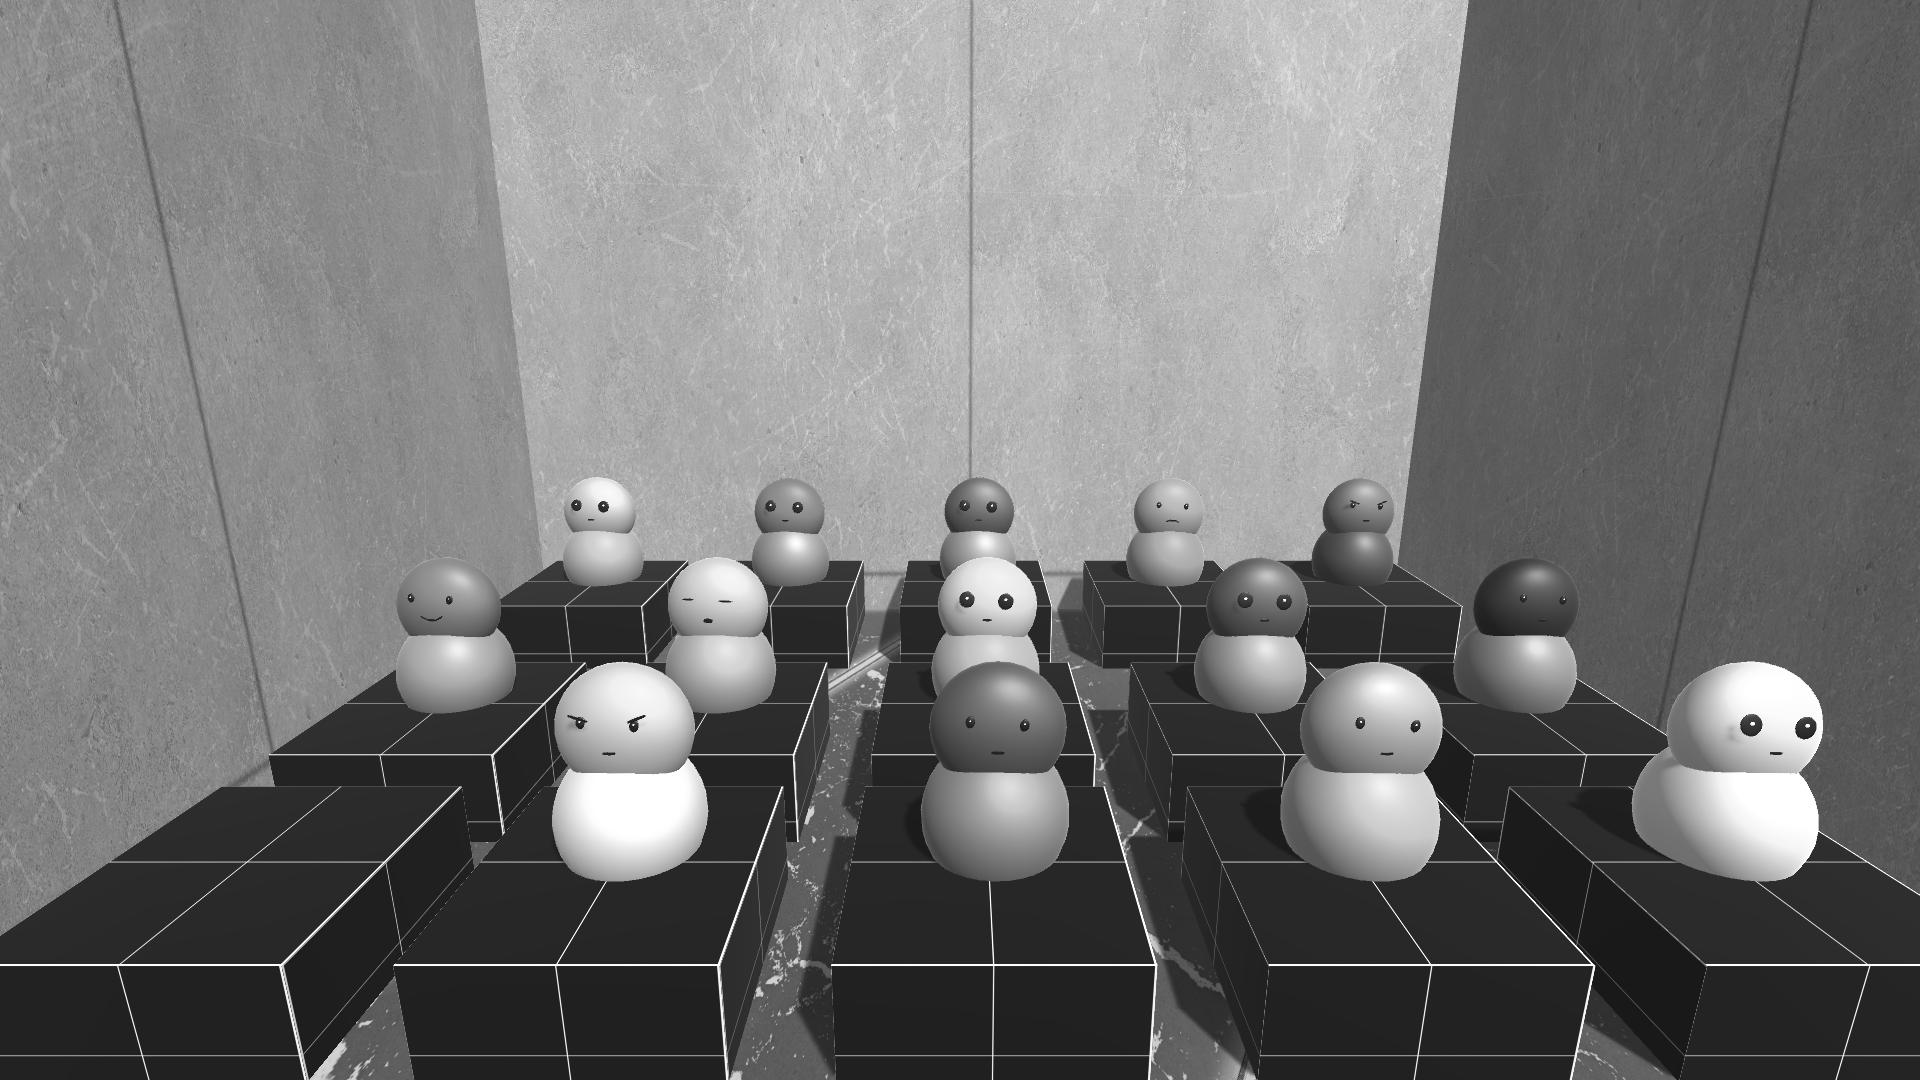blob_atento: (1625, 644, 1849, 894), (1184, 556, 1305, 720), (930, 559, 1046, 688), (920, 473, 1026, 584), (563, 473, 649, 604), (746, 480, 836, 593)
blob_dormindo: (667, 556, 786, 719)
blob_feliz: (396, 559, 516, 713)
blob_normal: (1269, 665, 1443, 889), (911, 669, 1080, 890), (1451, 556, 1593, 723)
blob_raiva: (553, 666, 702, 893), (1316, 473, 1410, 609)
blob_triste: (1120, 483, 1220, 613)
